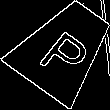P_NE: (33, 17, 96, 80)
